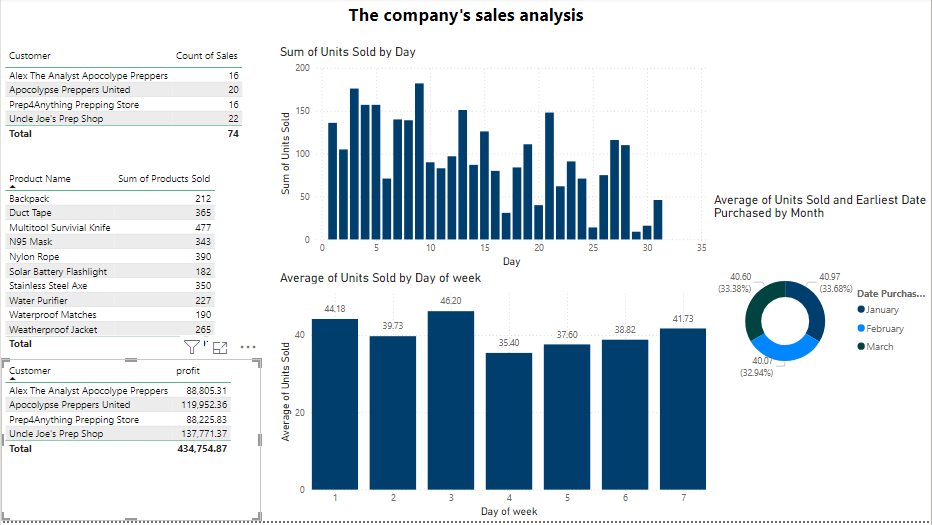

What the dashboard file says about the page in this screenshot:
{"tool":"powerbi","page":{"name":"Page ١","canvas":[1280,720],"ordinal":0},"visuals":[{"type":"tableEx","fields":{"Values":["Apocolypse Sales.Customer","Apocolypse Sales.Count of Sales"]},"box":[0,62.7,357.3,156],"z":0},{"type":"tableEx","fields":{"Values":["Apocolypse Store.Product Name","Apocolypse Sales.Sum of Products Sold"]},"box":[0,232,357.3,265.3],"z":1000},{"type":"tableEx","fields":{"Values":["Apocolypse Sales.Customer","Apocolypse Store.profit"]},"box":[0,497.3,357.3,222.7],"z":2000},{"type":"columnChart","fields":{"Y":["Sum(Apocolypse Sales.Units Sold)"],"Category":["Apocolypse Sales.Date Purchased.Variation.Date Hierarchy.Day"]},"box":[378.7,62.7,597.3,312],"z":3000},{"type":"clusteredColumnChart","fields":{"Y":["Avg(Apocolypse Sales.Units Sold)"],"Category":["Apocolypse Sales.Day of week"]},"box":[378.7,374.7,597.3,345.3],"z":4000},{"type":"donutChart","fields":{"Category":["Apocolypse Sales.Date Purchased.Variation.Date Hierarchy.Month","Apocolypse Sales.Date Purchased.Variation.Date Hierarchy.Day"],"Y":["Avg(Apocolypse Sales.Units Sold)"]},"box":[976,266.7,304,317.3],"z":5000},{"type":"textbox","box":[0,0,1280,62.7],"z":6000}]}

Visuals, with their boxes in screenshot pixels (x1, y1, x2, y2), scaled from the page's 1280x720 canvas onto the 932x525 screenshot:
tableEx - Apocolypse Sales.Customer x Apocolypse Sales.Count of Sales: (x1=0, y1=46, x2=260, y2=159)
tableEx - Apocolypse Store.Product Name x Apocolypse Sales.Sum of Products Sold: (x1=0, y1=169, x2=260, y2=363)
tableEx - Apocolypse Sales.Customer x Apocolypse Store.profit: (x1=0, y1=363, x2=260, y2=524)
columnChart - Sum(Apocolypse Sales.Units Sold) x Apocolypse Sales.Date Purchased.Variation.Date Hierarchy.Day: (x1=276, y1=46, x2=711, y2=273)
clusteredColumnChart - Avg(Apocolypse Sales.Units Sold) x Apocolypse Sales.Day of week: (x1=276, y1=273, x2=711, y2=524)
donutChart - Apocolypse Sales.Date Purchased.Variation.Date Hierarchy.Month x Apocolypse Sales.Date Purchased.Variation.Date Hierarchy.Day: (x1=711, y1=194, x2=931, y2=426)
textbox: (x1=0, y1=0, x2=931, y2=46)
